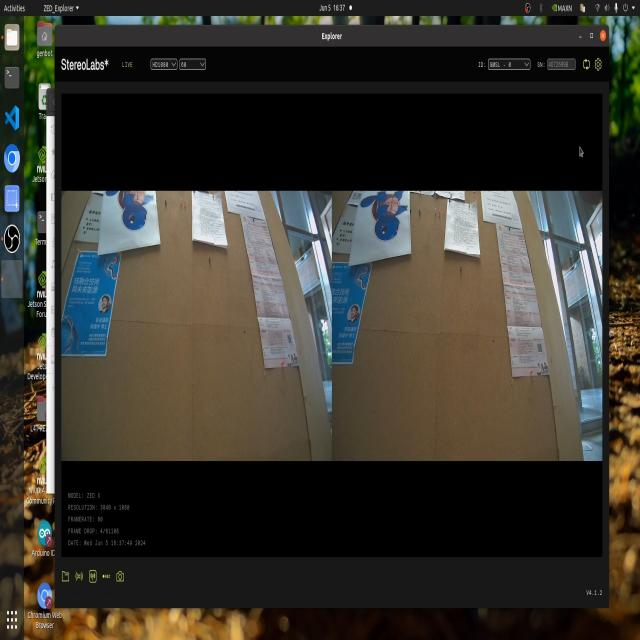blue: (354, 178, 412, 241), (99, 184, 163, 235)
